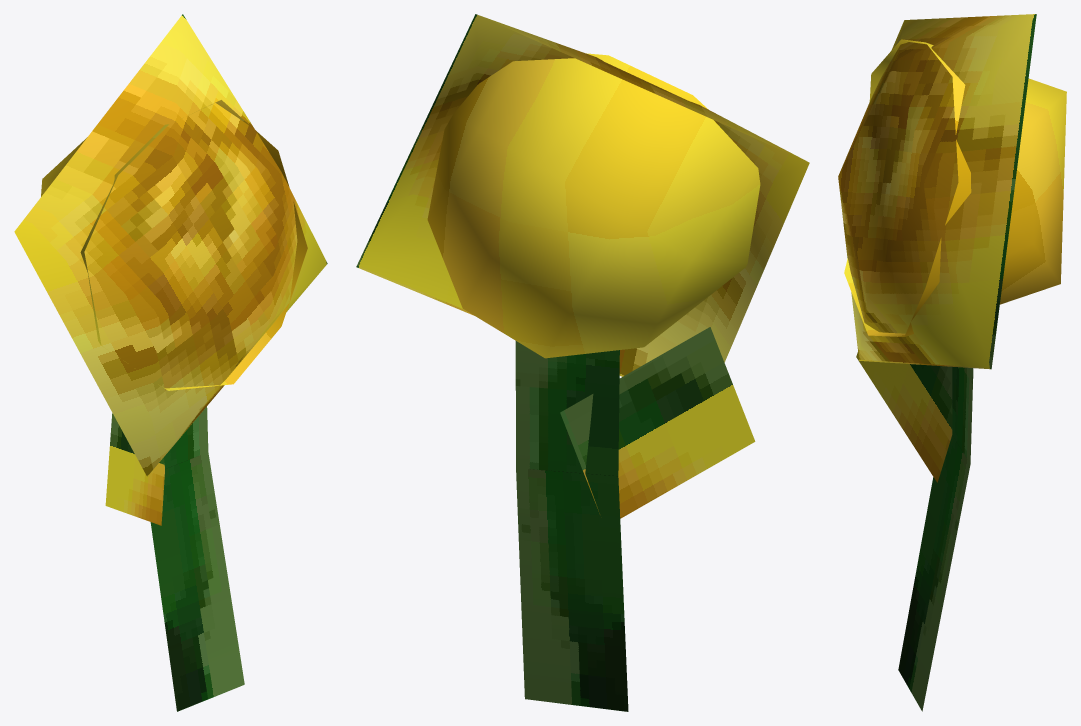
The model's file is flw_rose_ye_acc.dae.
3 views of the same model, side by side, from view 1: azimuth 30°, elevation 25°; view 2: azimuth 150°, elevation 25°; view 3: azimuth 270°, elevation 25° (orthographic). The views are drawn at different scales.
Parts seen in each view (by area): view 1: flw_rose_ye_acc; view 2: flw_rose_ye_acc; view 3: flw_rose_ye_acc.
Part boxes in pixels (<box>): flw_rose_ye_acc: <box>14,14,327,711</box>; flw_rose_ye_acc: <box>356,14,809,711</box>; flw_rose_ye_acc: <box>838,14,1066,711</box>.
Size of the model in its own units: 10.66 by 18.3 by 5.47.
Materials: 1 (1 with a texture image).
